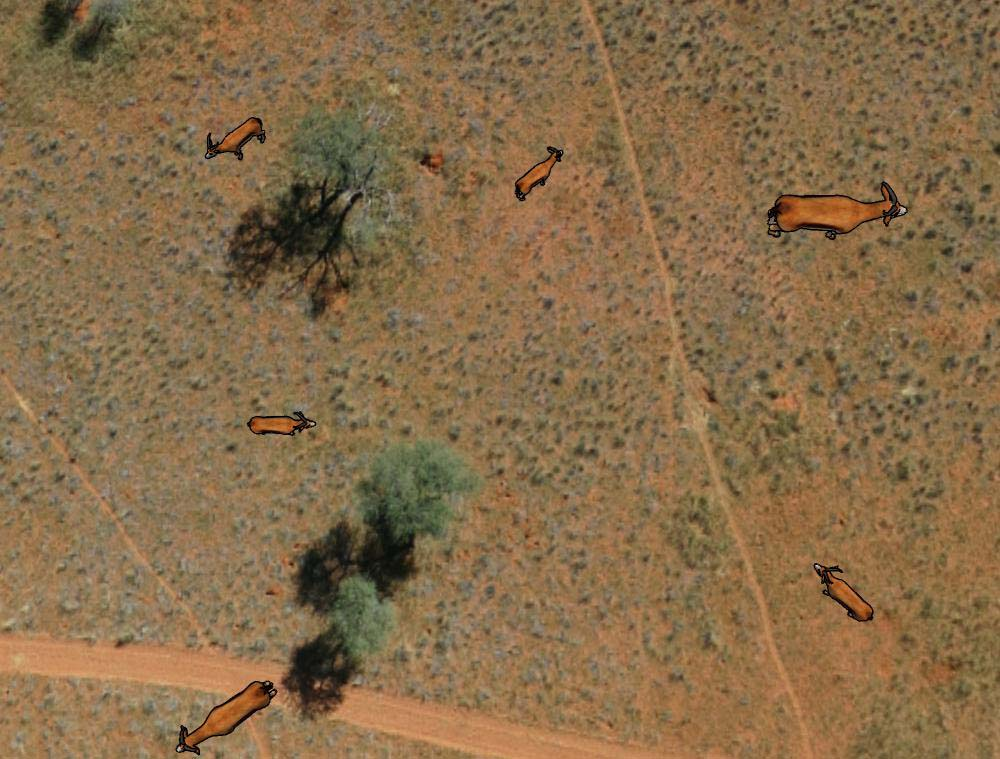springbok: (760, 177, 911, 244), (176, 674, 277, 759), (808, 555, 877, 625), (203, 117, 272, 164), (511, 142, 564, 203), (243, 404, 320, 445)
